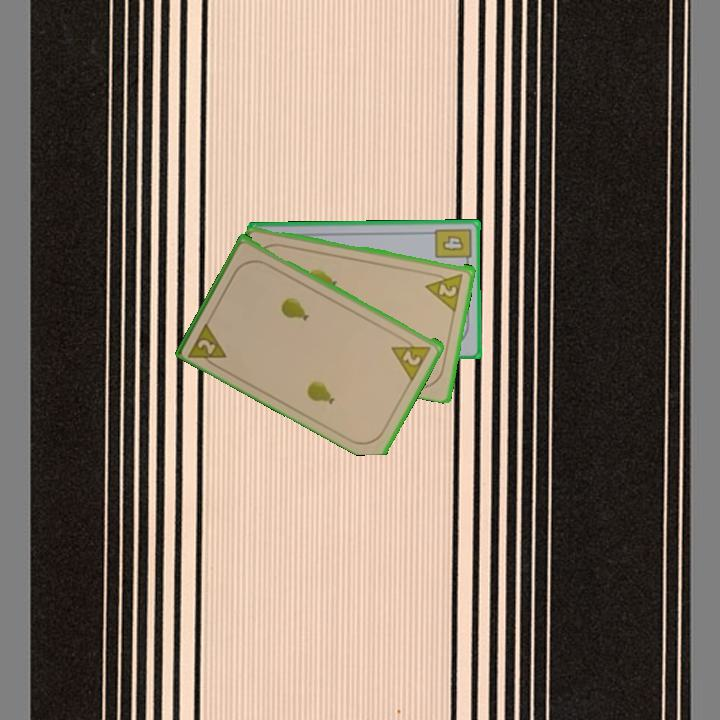2p: (185, 317, 230, 371), (388, 333, 434, 382), (422, 269, 466, 313)
4b: (432, 224, 474, 268)
